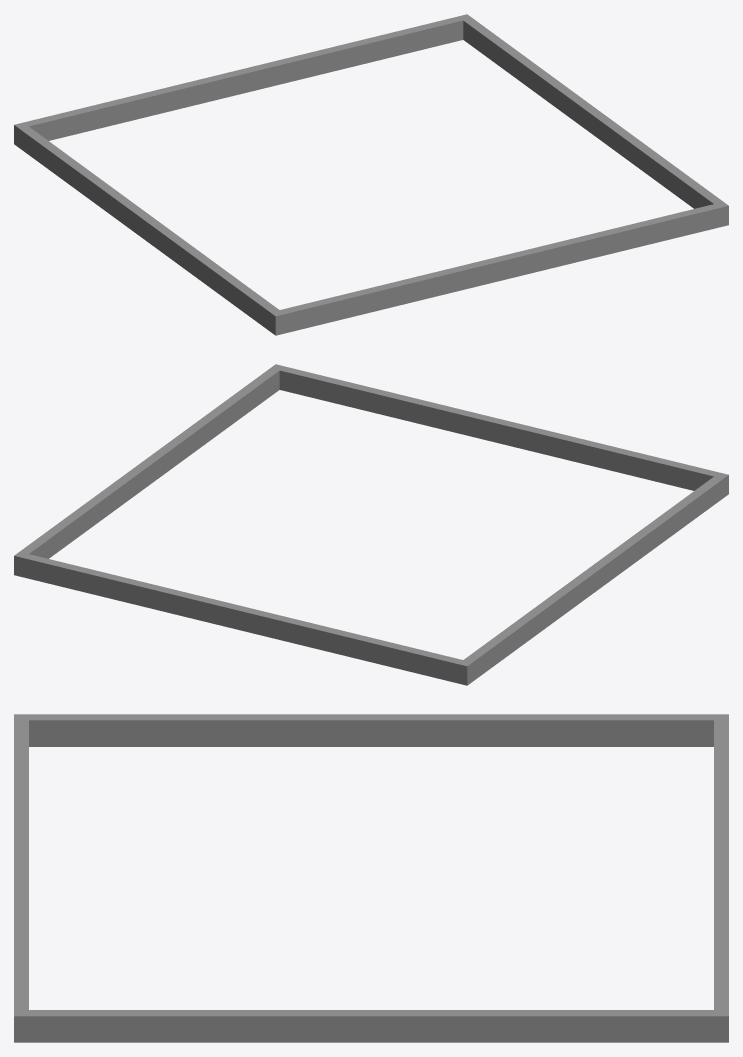
File: M_Ceiling_Window_0.fbx
3 renders of one model, top to bottom at view 1: azimuth 30°, elevation 25°; view 2: azimuth 150°, elevation 25°; view 3: azimuth 270°, elevation 25°, orthographic. The views are drawn at different scales.
Visible parts, largest first — view 1: M_Ceiling_Window_0; view 2: M_Ceiling_Window_0; view 3: M_Ceiling_Window_0.
Part boxes in pixels (x1,y1,x2,y2): M_Ceiling_Window_0: [14, 14, 728, 335]; M_Ceiling_Window_0: [14, 364, 728, 685]; M_Ceiling_Window_0: [14, 714, 728, 1042].
Size of the model in its own units: 1600 by 65.38 by 1600.
